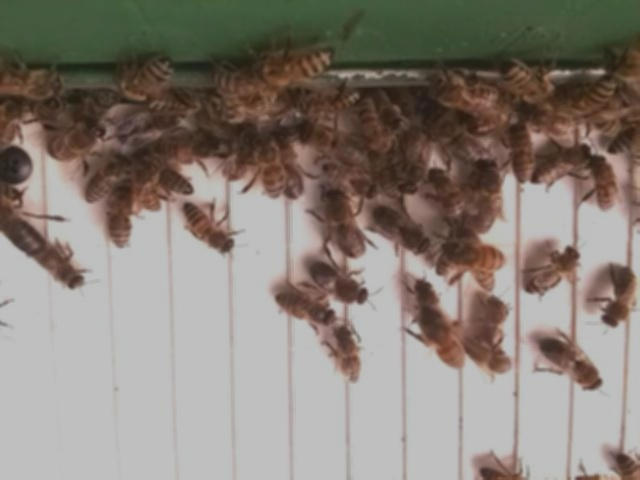Drone: (536, 336, 606, 395), (297, 120, 370, 169), (323, 185, 369, 261), (373, 203, 433, 258), (43, 117, 107, 167), (307, 260, 372, 309), (465, 155, 502, 238)
Worker: (182, 200, 237, 257), (522, 247, 583, 297), (530, 146, 598, 189), (272, 289, 342, 329), (599, 264, 638, 333), (422, 312, 465, 373), (83, 153, 130, 208), (430, 164, 467, 227), (254, 131, 287, 201), (443, 241, 510, 273), (508, 121, 538, 187), (332, 325, 363, 386), (109, 184, 133, 253), (591, 158, 618, 216)
